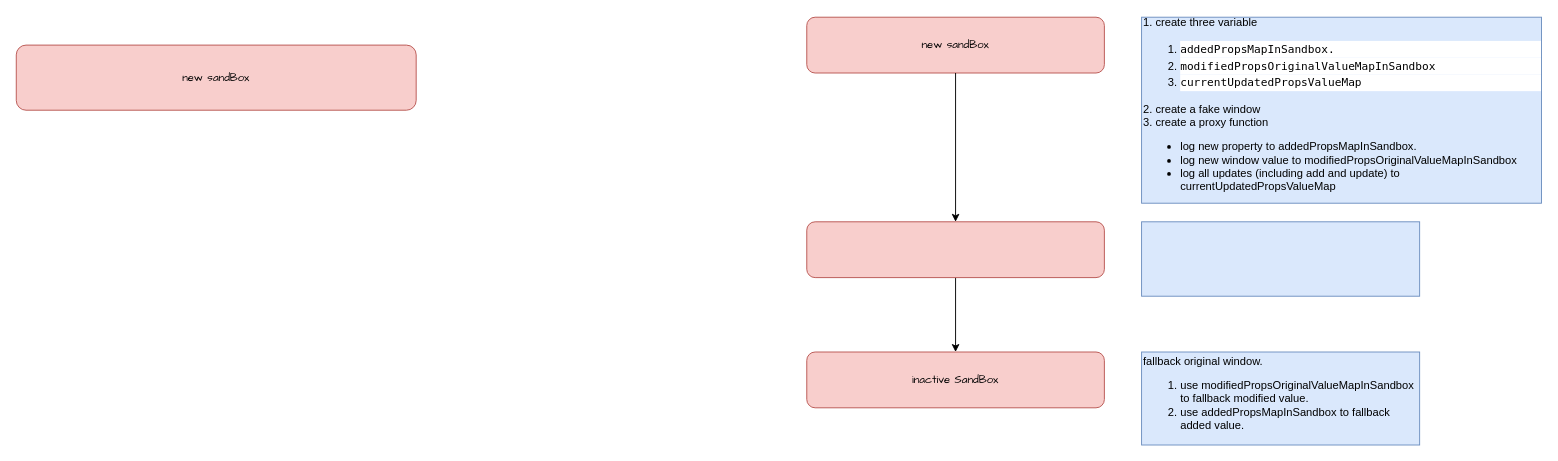
Image size: 1558x461. Some labels were removed from this diagram. Each missing label, with the box of its shape:
active SandBox: (806, 221, 1104, 278)
update original window by currentUpdatedPropsValueMap: (1141, 221, 1420, 296)
